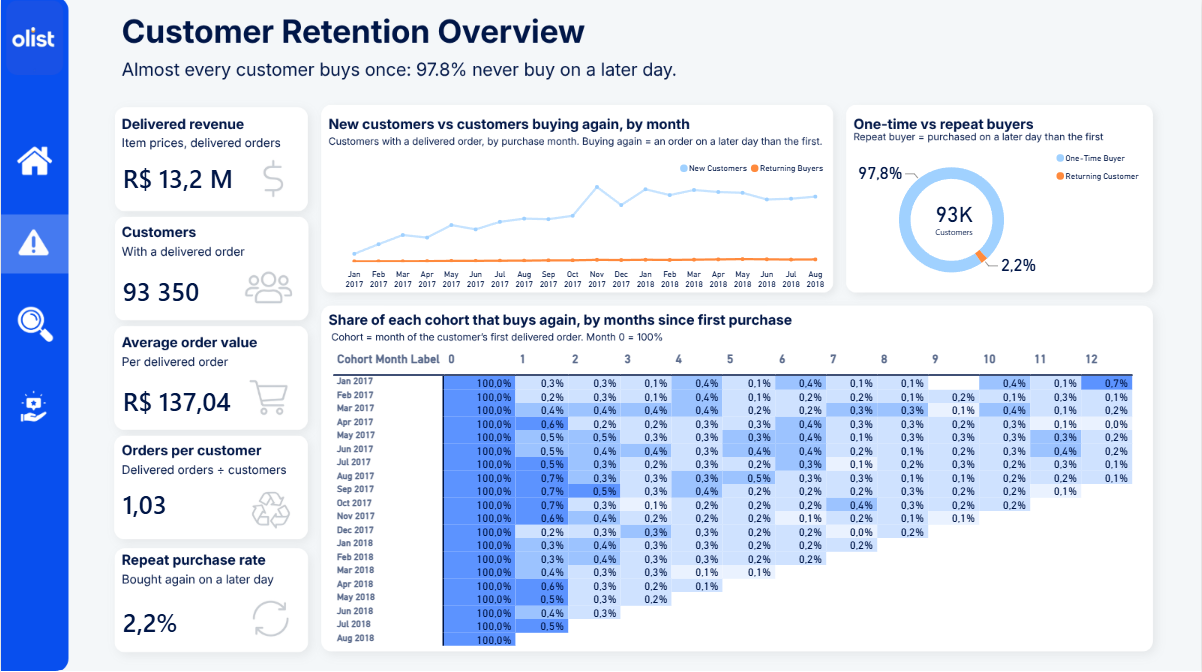

The dashboard page shown, as its layout file describes it:
{"tool":"powerbi","page":{"name":"Retention Overview","canvas":[1600,900],"ordinal":1},"visuals":[{"type":"cardVisual","fields":{"Data":["_measures.Delivered Revenue M"]},"box":[133.8,188.7,240,95],"z":0},{"type":"cardVisual","fields":{"Data":["_measures.Customers"]},"box":[133.8,338,240,95],"z":1000},{"type":"cardVisual","fields":{"Data":["_measures.AOV"]},"box":[133.8,484.5,240,95],"z":2000},{"type":"cardVisual","fields":{"Data":["_measures.Orders per Customer"]},"box":[133.8,623.9,240,95],"z":3000},{"type":"cardVisual","fields":{"Data":["_measures.Repeat Purchase Rate"]},"box":[133.8,780.3,240,95],"z":4000},{"type":"areaChart","fields":{"Category":["fact_orders.Purchase Month Label"],"Y":["_measures.New Customers","_measures.Returning Buyers"]},"box":[438,204.2,667.6,188.7],"z":5000},{"type":"donutChart","fields":{"Category":["dim_customers.customer_segment"],"Y":["_measures.Customers"]},"box":[1123.9,193,408.5,200],"z":6000},{"type":"pivotTable","fields":{"Columns":["fact_orders.Months Since First"],"Rows":["fact_orders.Cohort Month Label"],"Values":["_measures.Cohort Retention %"]},"box":[438.3,465,1085,410],"z":7000},{"type":"cardVisual","fields":{"Data":["_measures.Customers"]},"box":[1216.9,246.5,111.3,91.5],"z":8000},{"type":"actionButton","box":[0,177.5,88.7,76.1],"z":8001},{"type":"actionButton","box":[0,398.6,88.7,76.1],"z":8002},{"type":"actionButton","box":[0,505.6,88.7,76.1],"z":8003}]}

Visuals, with their boxes on the page's 1600x900 design canvas (x1, y1, x2, y2). These are canvas units, not pixel positions in the 1202x672 screenshot, which may show the page scaled, cropped or inside an application window:
cardVisual - _measures.Delivered Revenue M: [134, 189, 374, 284]
cardVisual - _measures.Customers: [134, 338, 374, 433]
cardVisual - _measures.AOV: [134, 484, 374, 580]
cardVisual - _measures.Orders per Customer: [134, 624, 374, 719]
cardVisual - _measures.Repeat Purchase Rate: [134, 780, 374, 875]
areaChart - fact_orders.Purchase Month Label x _measures.New Customers: [438, 204, 1106, 393]
donutChart - dim_customers.customer_segment x _measures.Customers: [1124, 193, 1532, 393]
pivotTable - fact_orders.Months Since First x fact_orders.Cohort Month Label: [438, 465, 1523, 875]
cardVisual - _measures.Customers: [1217, 246, 1328, 338]
actionButton: [0, 178, 89, 254]
actionButton: [0, 399, 89, 475]
actionButton: [0, 506, 89, 582]
